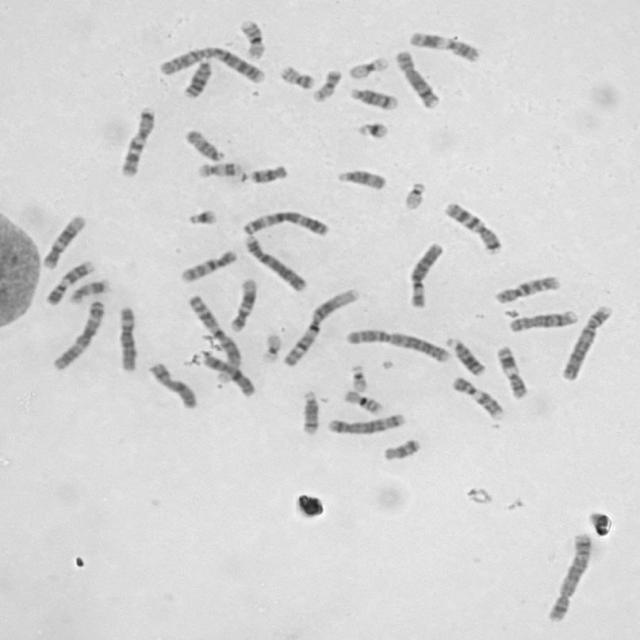A1: (279, 284, 363, 368), (184, 292, 247, 393)
A2: (155, 42, 268, 84), (340, 324, 452, 363)
A3: (49, 296, 107, 371), (239, 207, 332, 238)
B4: (557, 300, 614, 382), (240, 231, 310, 293)
B5: (544, 528, 594, 622), (324, 410, 407, 436)
C10: (176, 245, 240, 284), (490, 272, 562, 305)
C11: (406, 26, 483, 64), (493, 342, 530, 400)
C12: (39, 211, 88, 270), (226, 275, 259, 333)
C6: (404, 238, 446, 309), (114, 302, 140, 373)
C7: (440, 198, 504, 254), (117, 103, 157, 178)
C8: (392, 46, 442, 110), (504, 306, 580, 334)
C9: (449, 373, 506, 421), (43, 256, 96, 306)
D13: (442, 334, 488, 376), (181, 54, 215, 99)
D14: (346, 84, 401, 112), (298, 386, 322, 436)
D15: (182, 125, 228, 163), (334, 166, 388, 192)
E16: (236, 15, 268, 61), (340, 386, 385, 415)
E17: (66, 275, 111, 305), (194, 158, 243, 179)
E18: (380, 434, 423, 462), (246, 161, 289, 184)
F19: (345, 53, 391, 80), (259, 330, 283, 364)
F20: (308, 65, 344, 103), (276, 61, 317, 90)
G21: (354, 118, 391, 140), (184, 206, 220, 227)
G22: (400, 178, 428, 211), (346, 361, 369, 393)
X: (145, 358, 201, 410), (200, 351, 257, 398)
